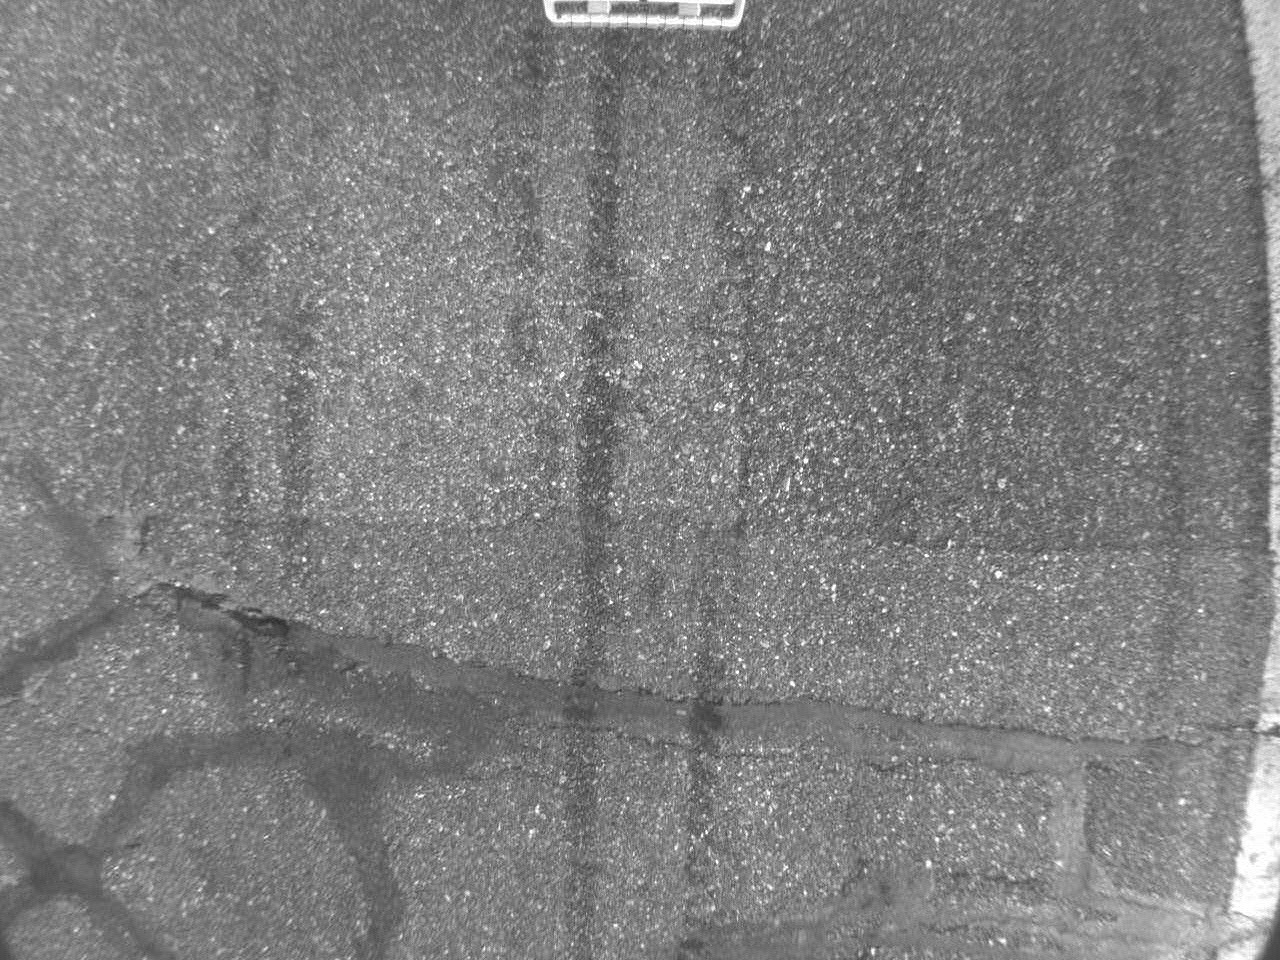sealed: (1, 573, 1273, 956)
